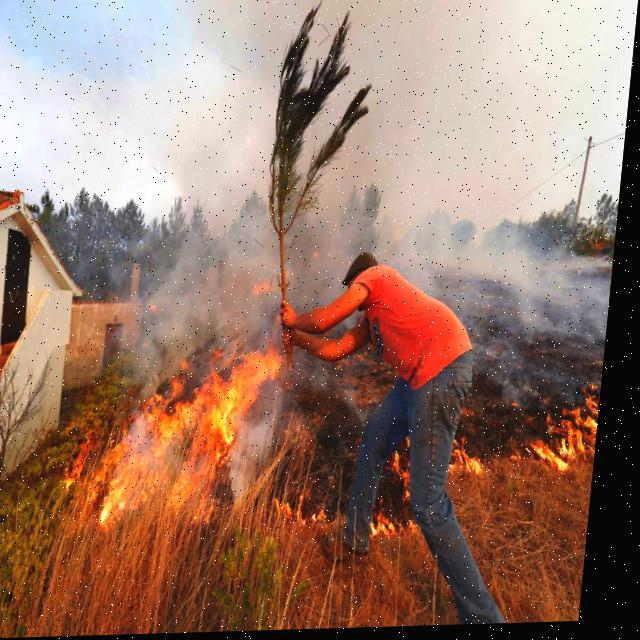Fire: (69, 336, 286, 536), (524, 373, 608, 479), (376, 509, 420, 544), (455, 440, 488, 480)
